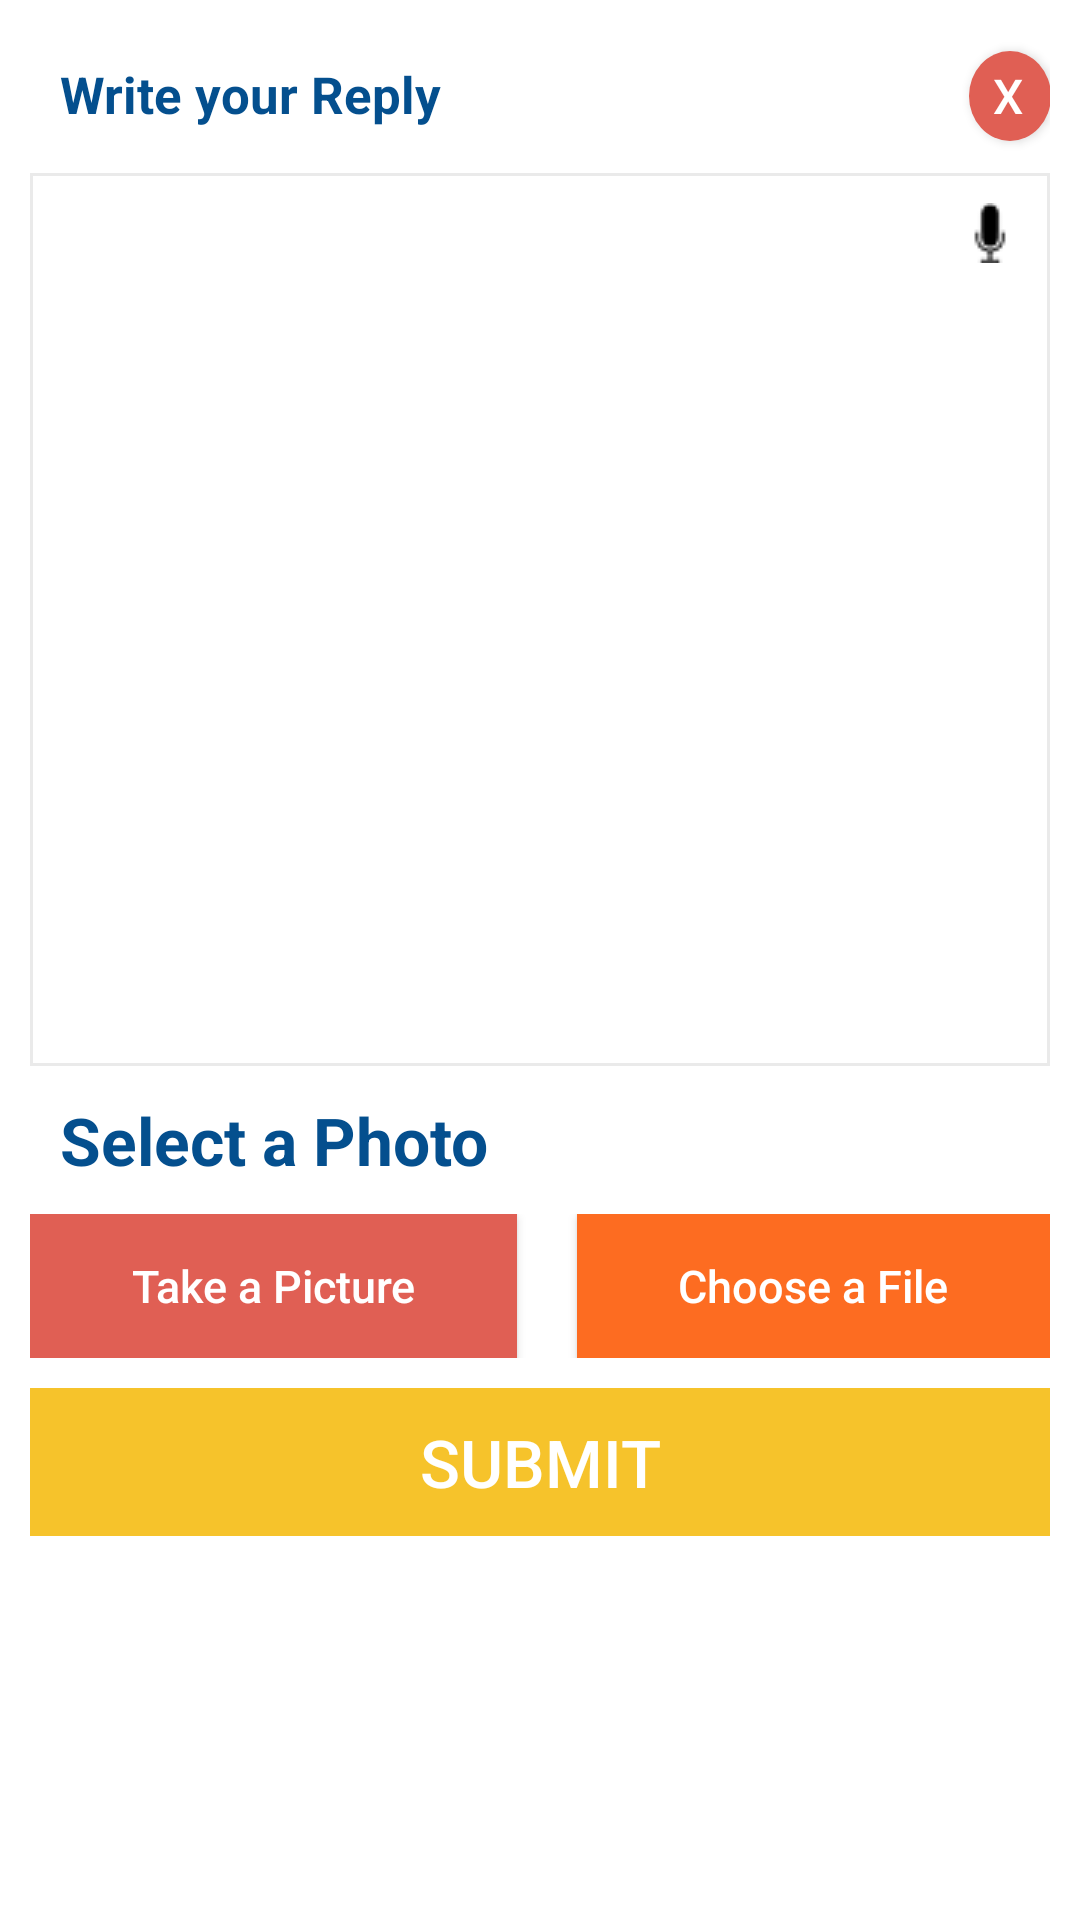

Point at icon controls on the screen. Image size 1080*1920, points as [x,y].
voice: [990,233]
